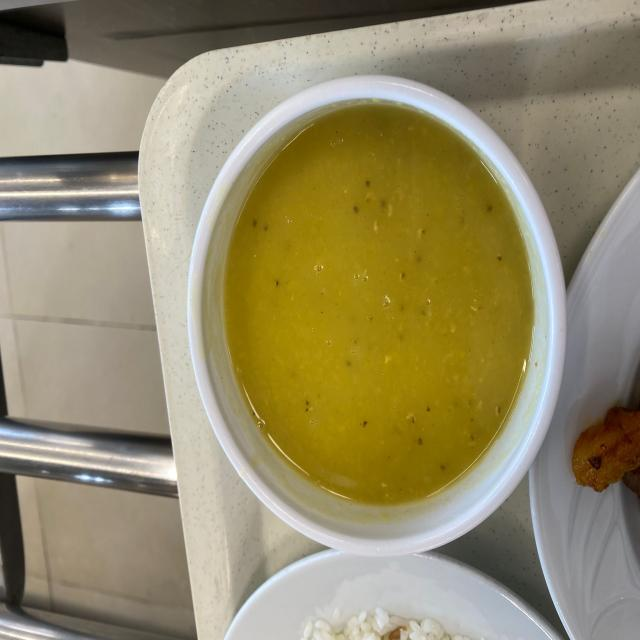corba: (194, 83, 547, 576)
